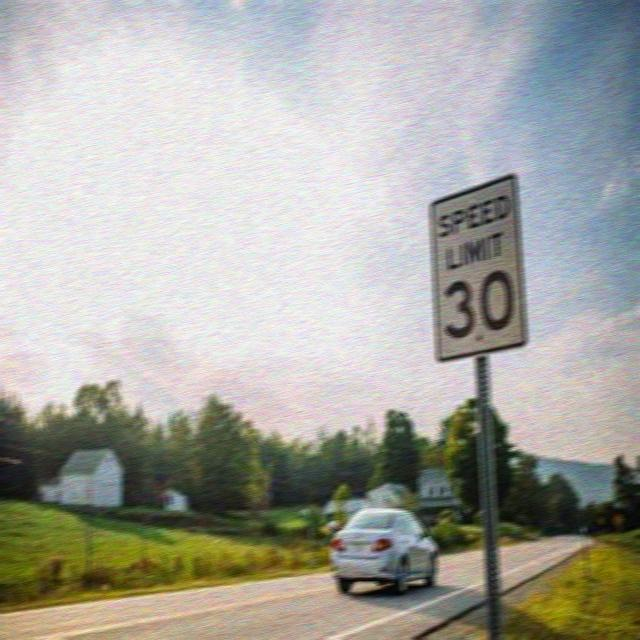speedLimit30: (425, 190, 535, 361)
